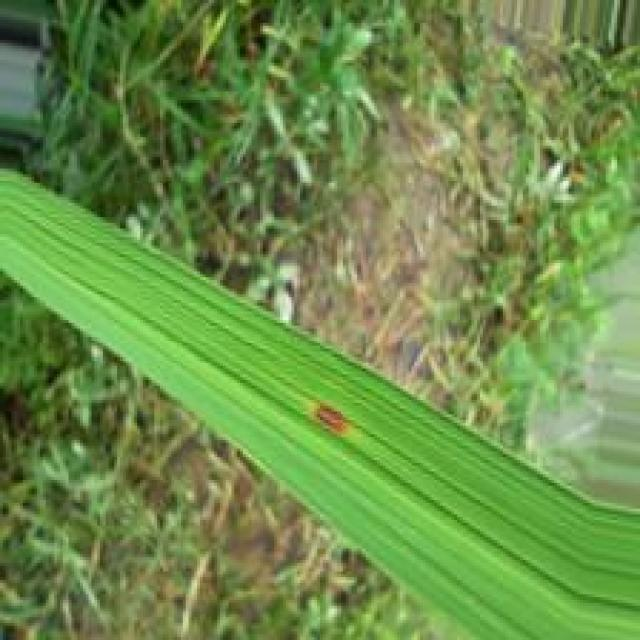Brown_Spot: (313, 403, 344, 431)
